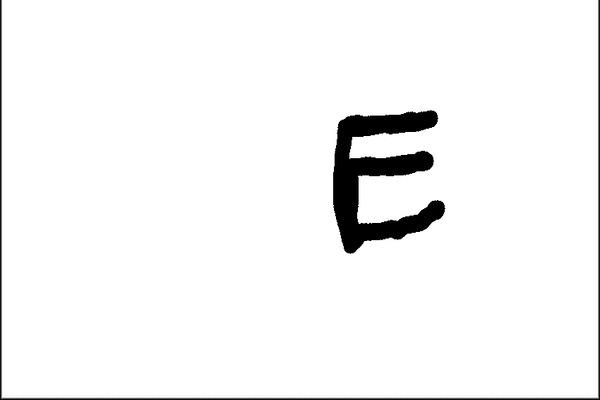E: (328, 107, 449, 256)
